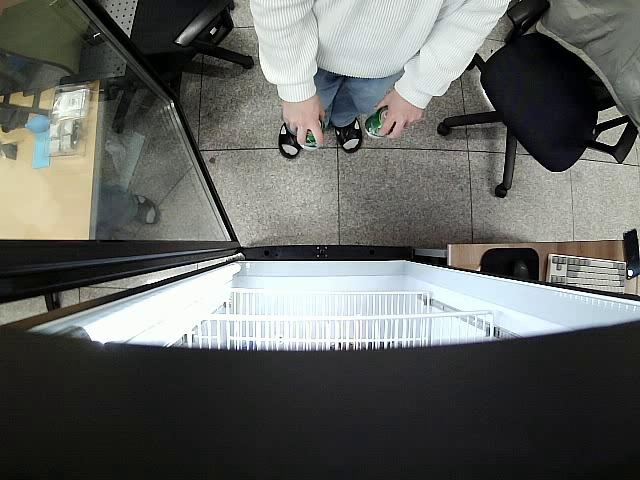00_hand: (374, 88, 423, 139), (282, 95, 325, 149)
12_chilsungCider: (365, 107, 396, 140), (304, 115, 325, 148)
